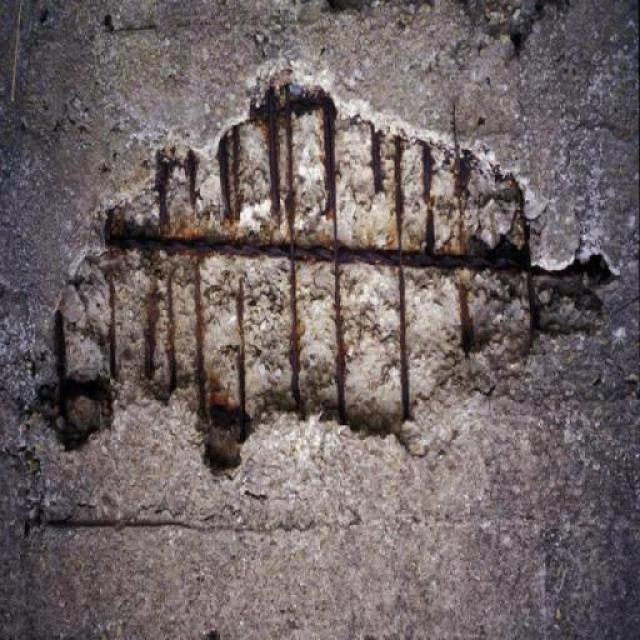D0w0: (31, 61, 639, 472)
